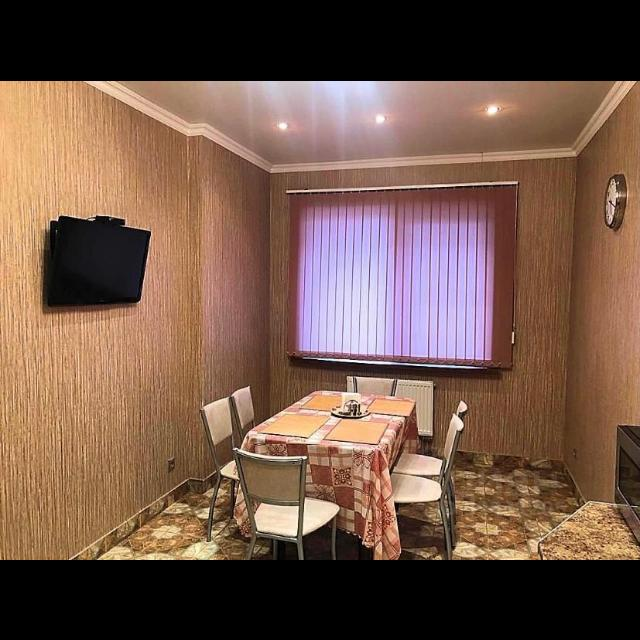Flat-Panel-TV: (46, 217, 150, 305)
